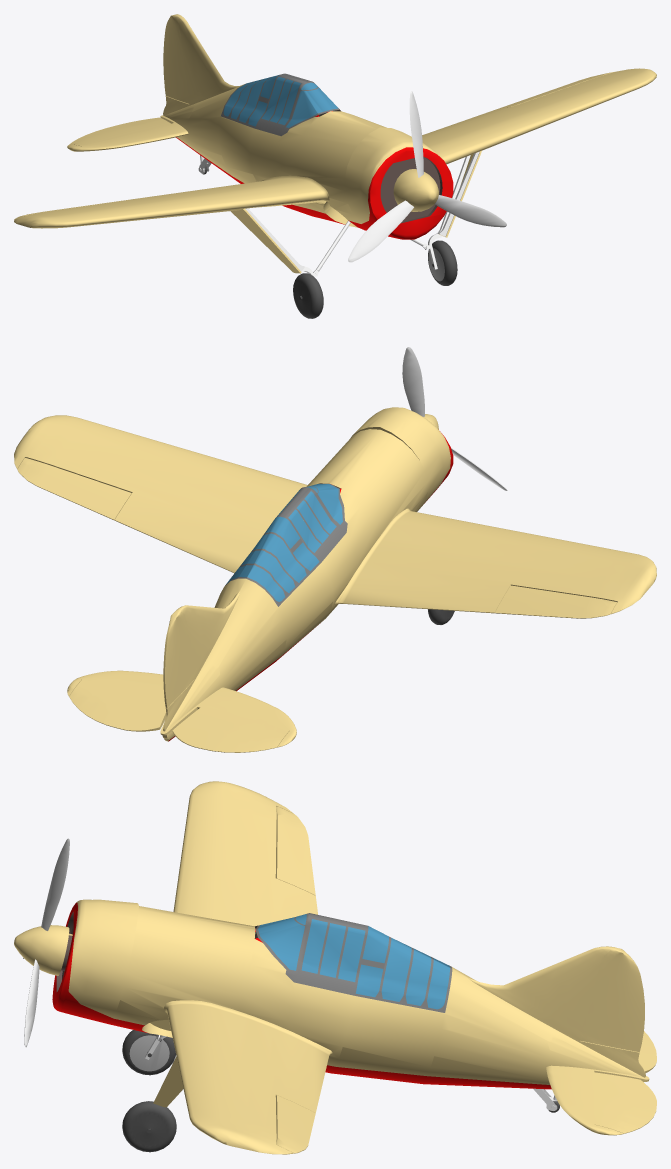
The model's file is AvionGraffiti.fbx.
3 views of the same model, one above another, from view 1: azimuth 30°, elevation 25°; view 2: azimuth 150°, elevation 25°; view 3: azimuth 270°, elevation 25° (orthographic). The views are drawn at different scales.
Parts seen in each view (by area): view 1: Layer0_001, Group_007, Group_001, Group_010, Group_005, Group_003, Group_009; view 2: Layer0_001, Group_001, Group_007, Group_010, Group_009; view 3: Layer0_001, Group_001, Group_007, Group_010, Group_009, Group_003, Group_005.
Part boxes in pixels (x1,y1,x2,y2): Layer0_001: (67, 14, 506, 262); Group_007: (14, 175, 329, 228); Group_001: (422, 68, 656, 164); Group_010: (223, 75, 338, 127); Group_005: (230, 208, 350, 318); Group_003: (410, 150, 481, 285); Group_009: (221, 73, 339, 136); Layer0_001: (67, 347, 507, 752); Group_001: (14, 415, 307, 573); Group_007: (334, 508, 656, 618); Group_010: (226, 484, 342, 601); Group_009: (225, 483, 347, 606); Layer0_001: (14, 838, 656, 1135); Group_001: (164, 1000, 332, 1154); Group_007: (173, 781, 317, 926); Group_010: (258, 914, 450, 1009); Group_009: (255, 913, 452, 1012); Group_003: (122, 1054, 183, 1152); Group_005: (122, 1030, 175, 1075).
Size of the model in its own units: 10793 by 3880 by 8223.
